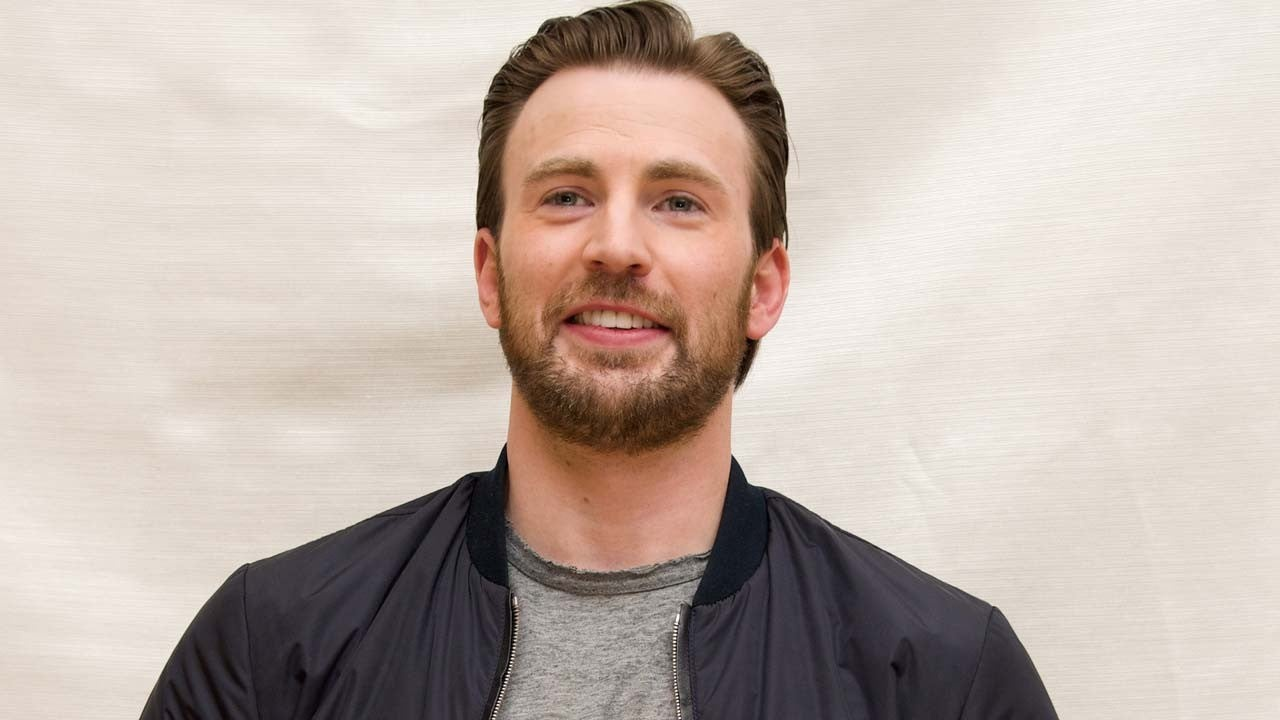bad: (498, 142, 765, 409)
